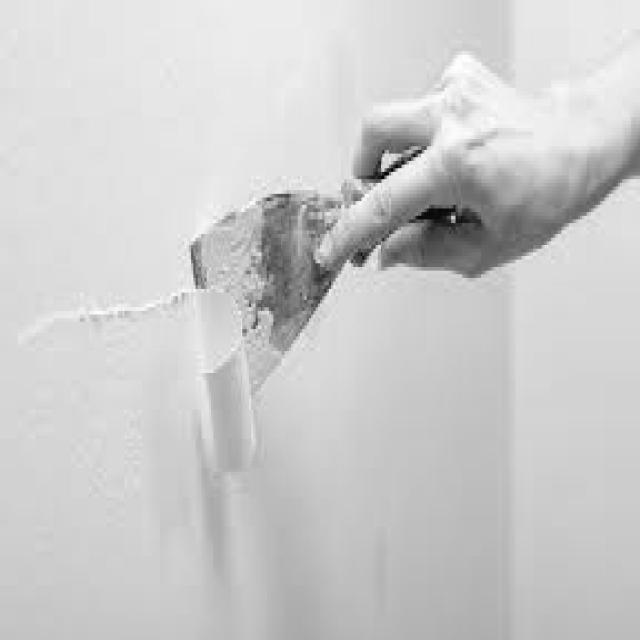peeling paint: (19, 234, 283, 527)
